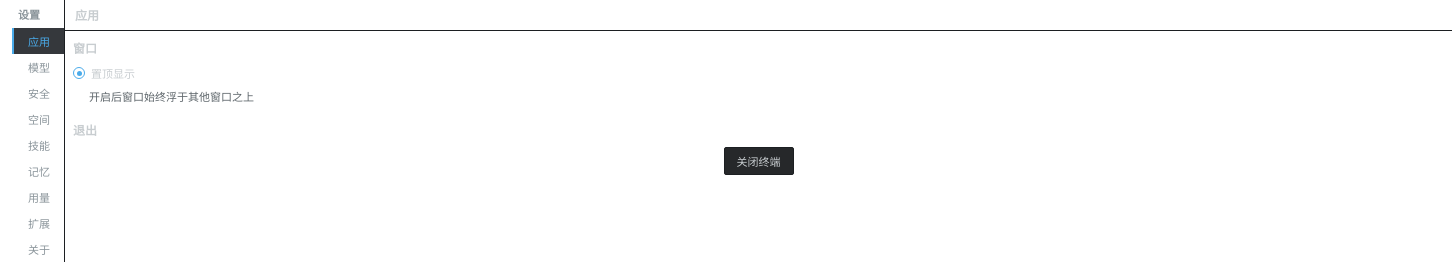
Test: SettingsPanel · 子页路由 › 切到安全页：两选项静态并存（ask 默认选中）
Click the tab "安全". click: (38, 93)
box: [12, 80, 64, 106]
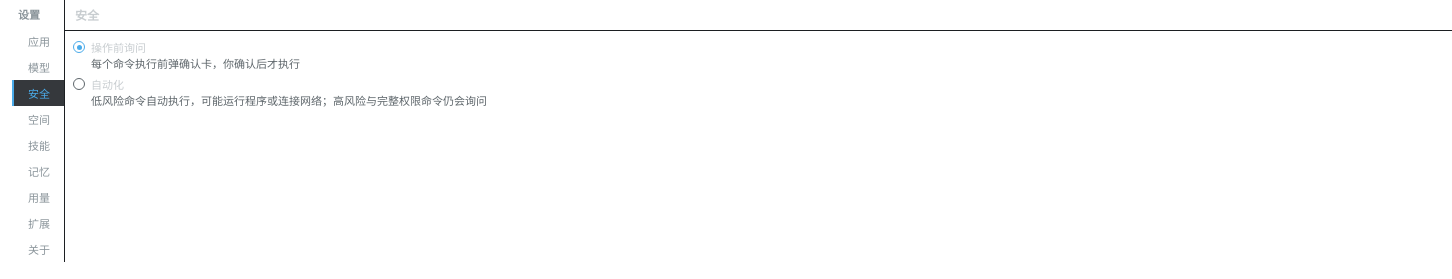
Check: the text "操作前询问" is shown, box [91, 39, 146, 55]
Check: the text "自动化" is shown, box [91, 76, 124, 92]
